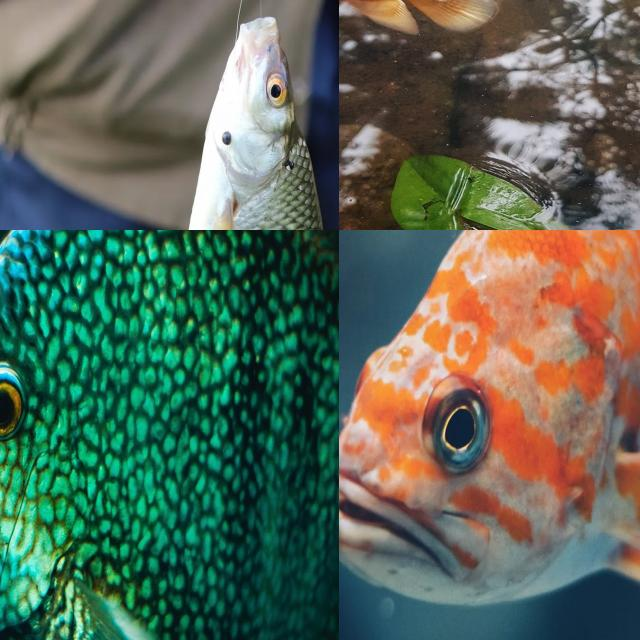fish: (0, 230, 193, 640), (0, 0, 339, 230), (410, 250, 640, 500), (339, 0, 569, 191)
